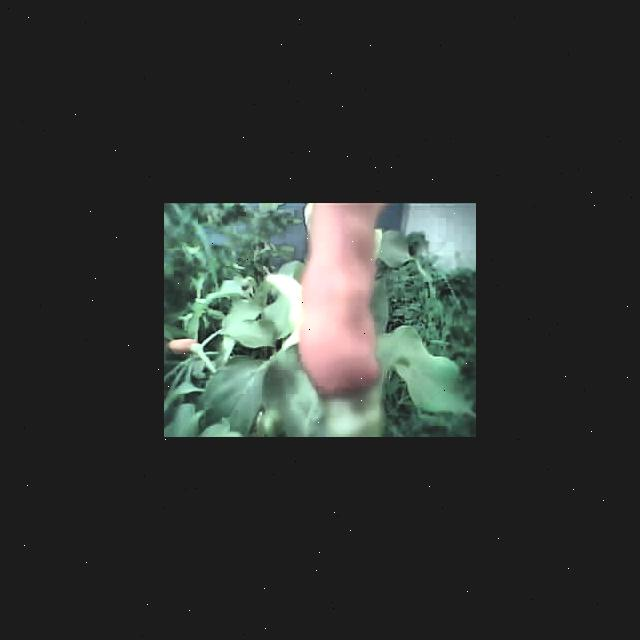Cabai: (306, 203, 378, 383)
